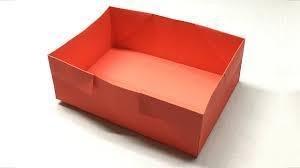box: (47, 6, 245, 160)
